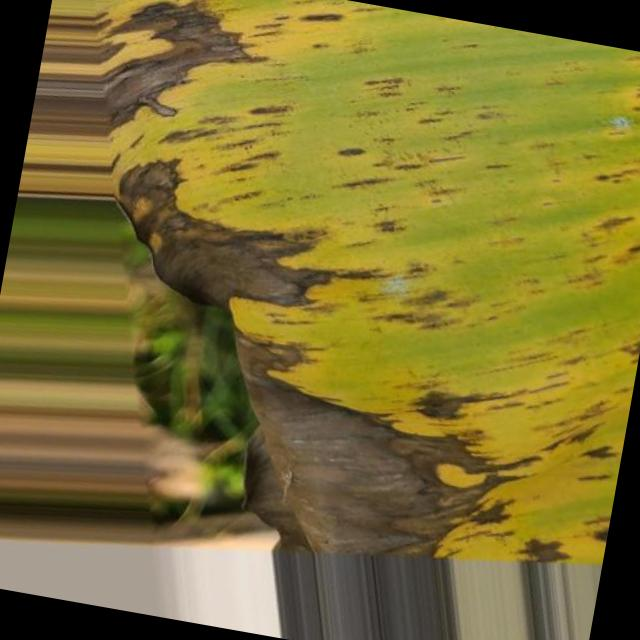Banana_Black_Sigatoka: (200, 298, 636, 607), (58, 0, 463, 322)
